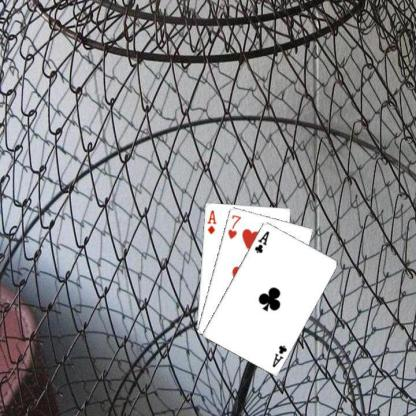7H: (225, 212, 242, 240)
AC: (252, 228, 270, 254), (270, 343, 288, 368)
AD: (205, 208, 217, 235)
